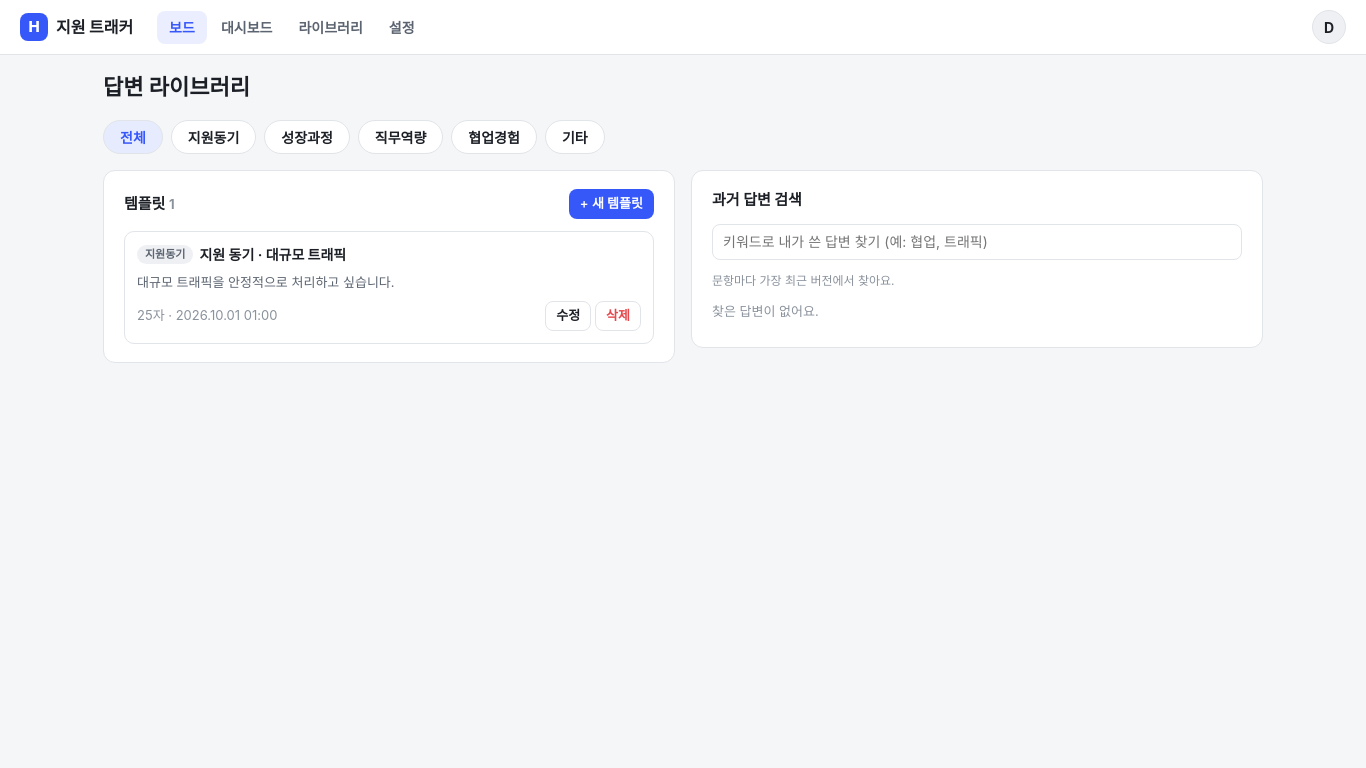
Scenario: 답변 라이브러리 › 새 템플릿은 지금 고른 유형으로 시작하고, 저장하면 목록을 다시 불러온다
Click the tab "협업경험" at (494, 137), box [451,120,537,154]
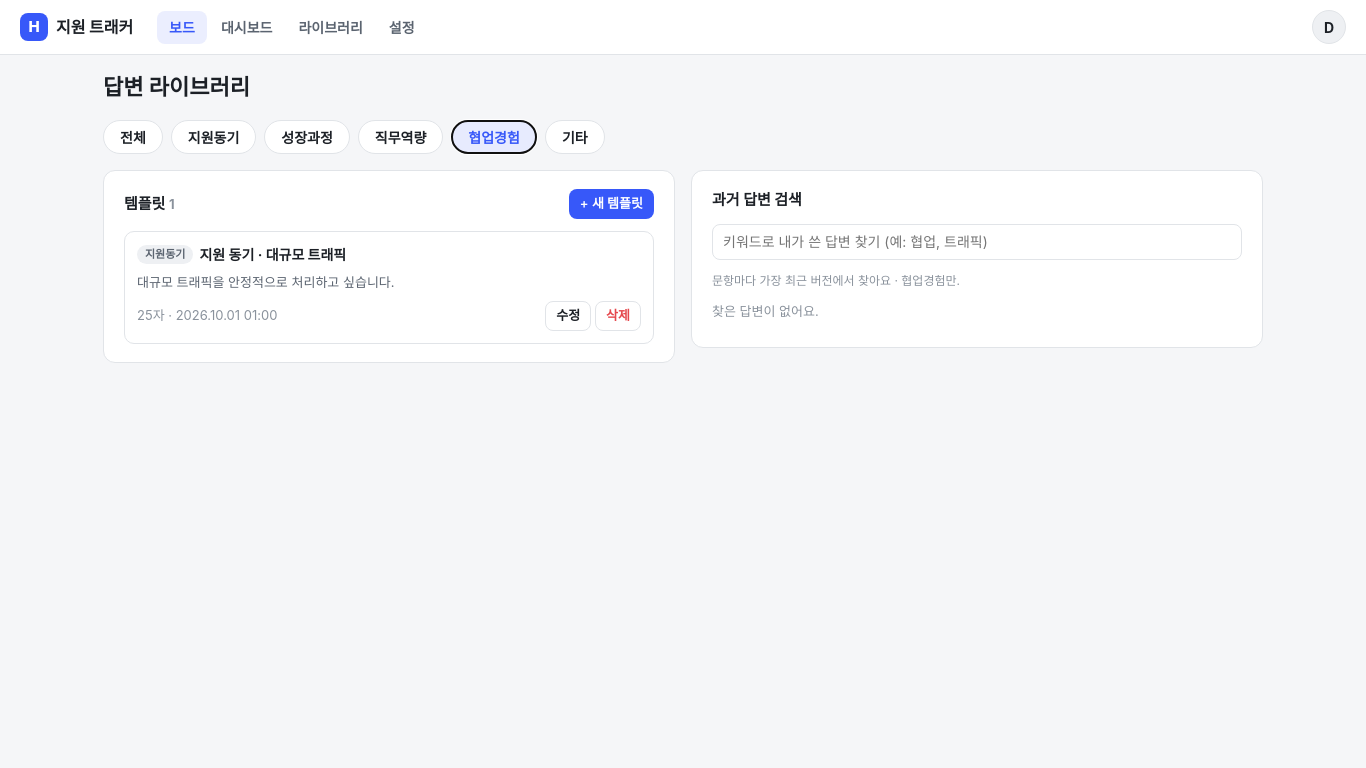
Click the button "+ 새 템플릿" at (611, 204), box [569,189,654,219]
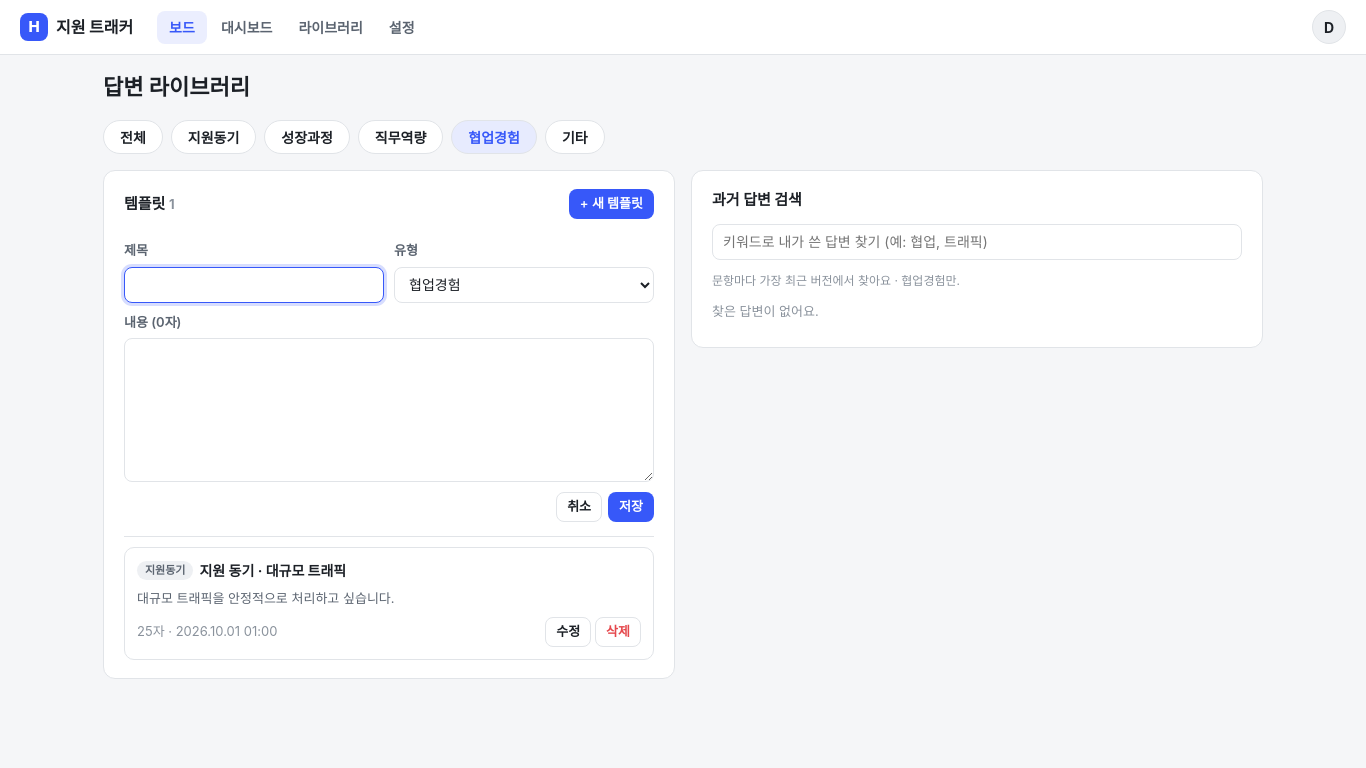
Check: the dropdown labelled "유형" shows "협업경험", box [394,266,654,302]
Type "협업 · 코드 리뷰" into the field labelled "제목" at (254, 284), box [124,266,384,302]
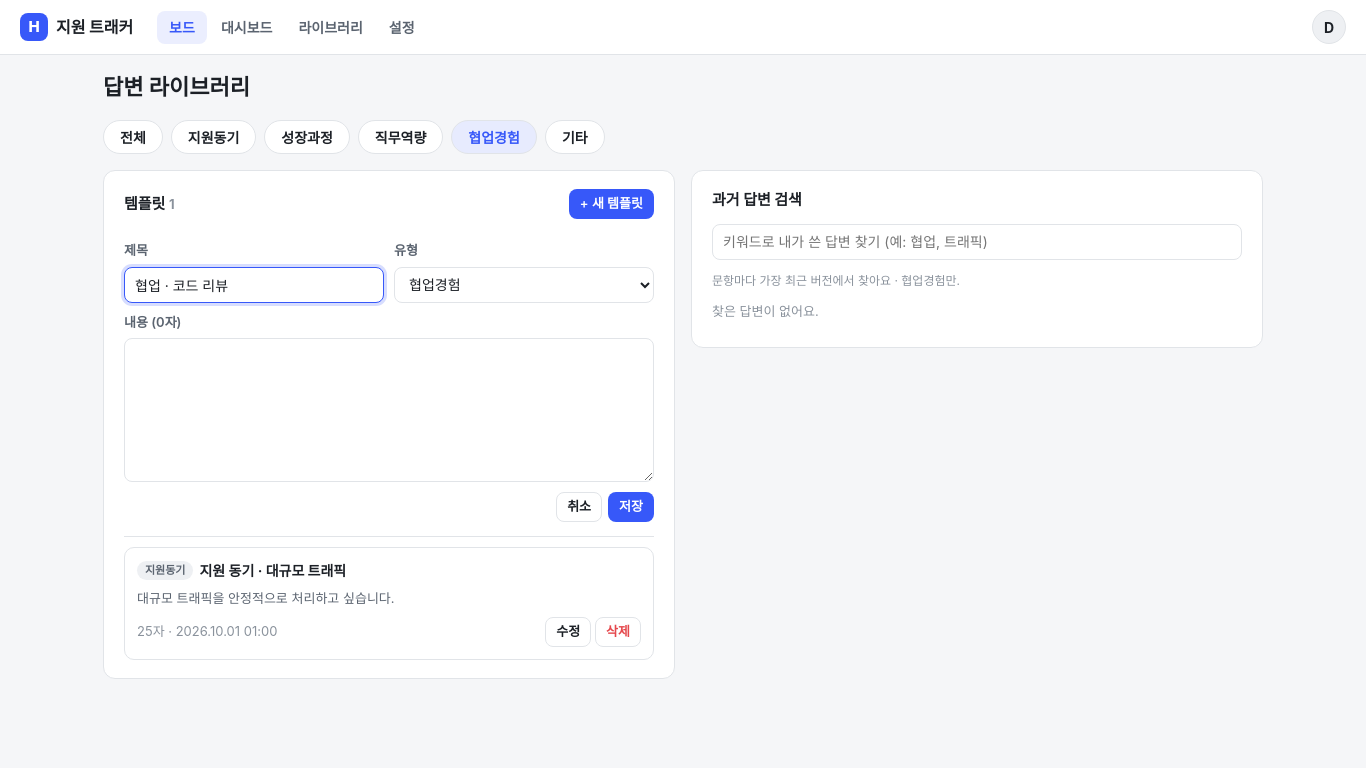
Type "PR 템플릿을 제안했습니다." into the text box labelled "내용 (0자)" at (389, 410), box [124,338,654,482]
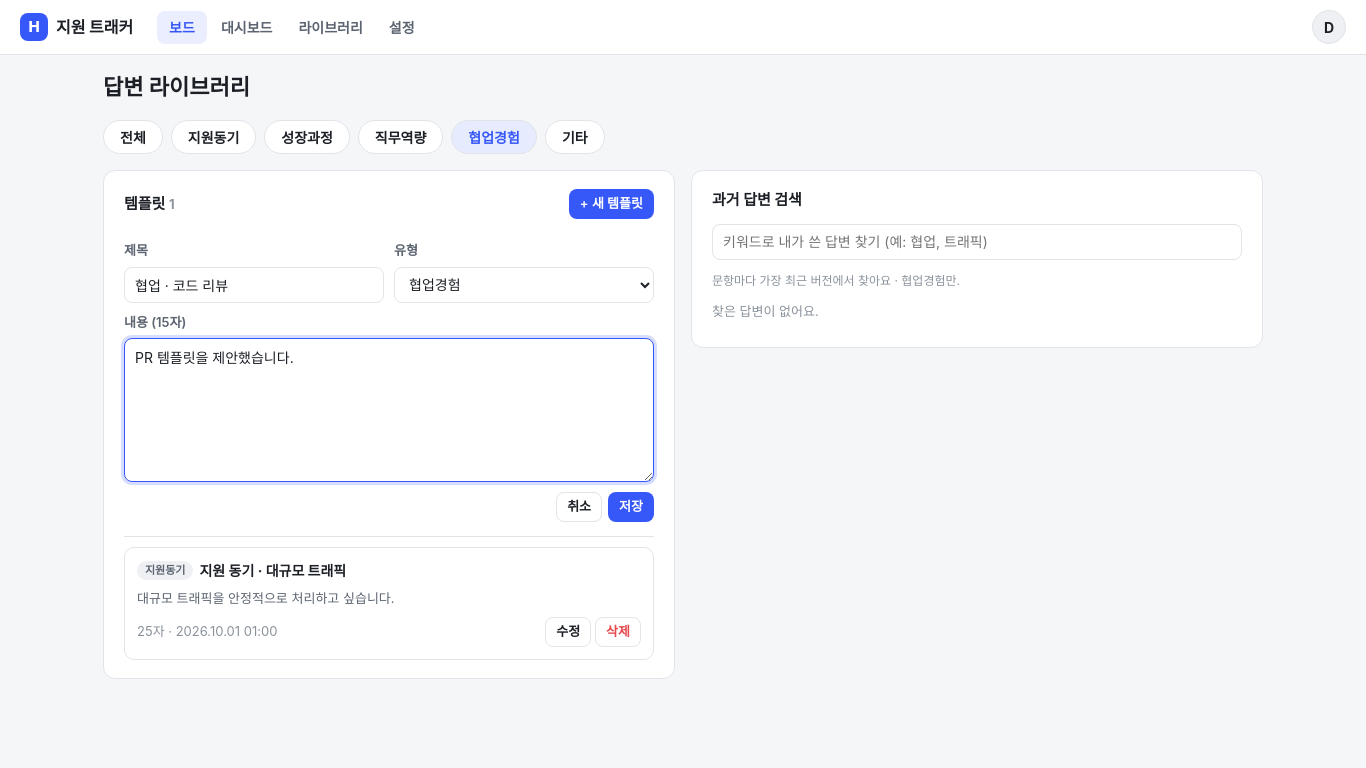
Check: the text "내용 (15자)" is shown, box [124,314,186,330]
Click the button "저장" at (631, 507), box [608,492,654,522]
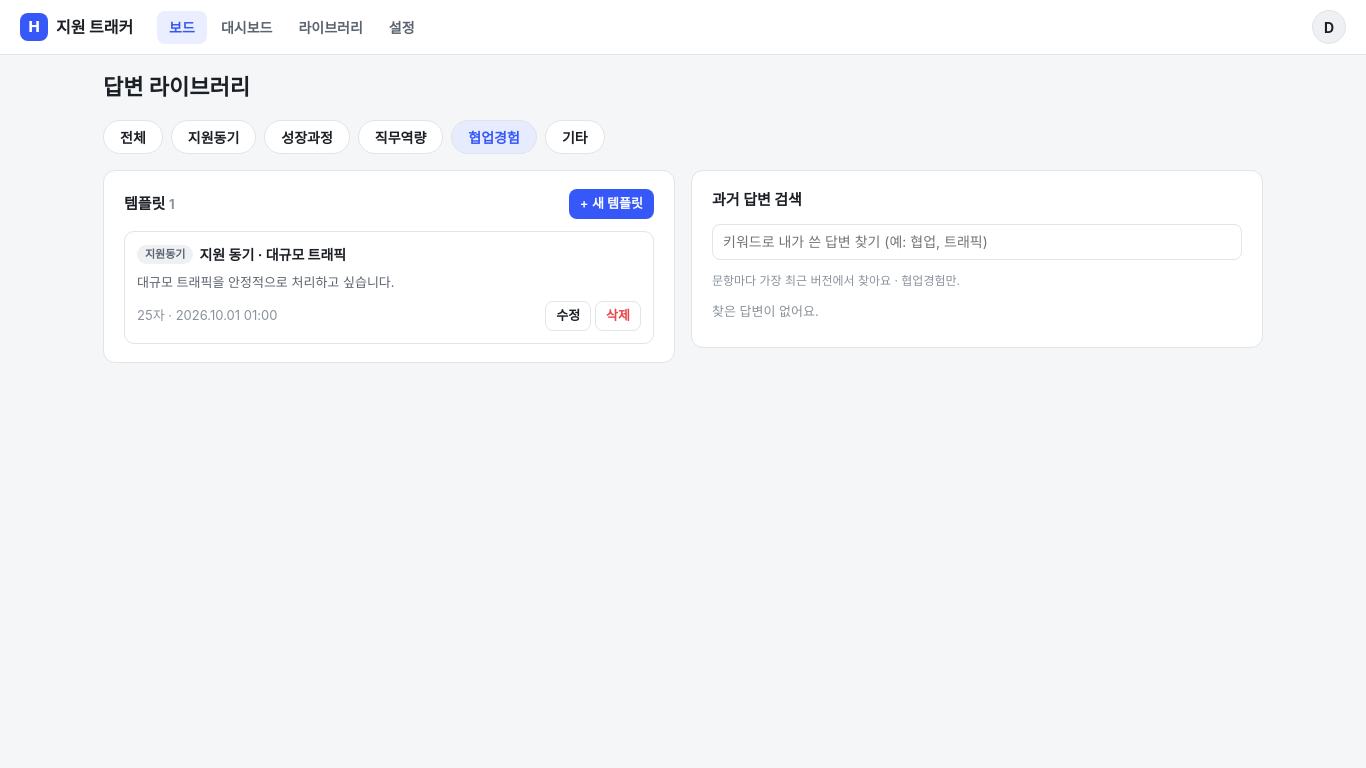
Check: the text labelled "제목" is gone
